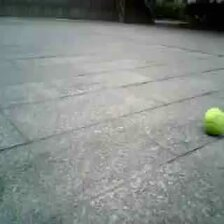tennis: (204, 106, 224, 135)
